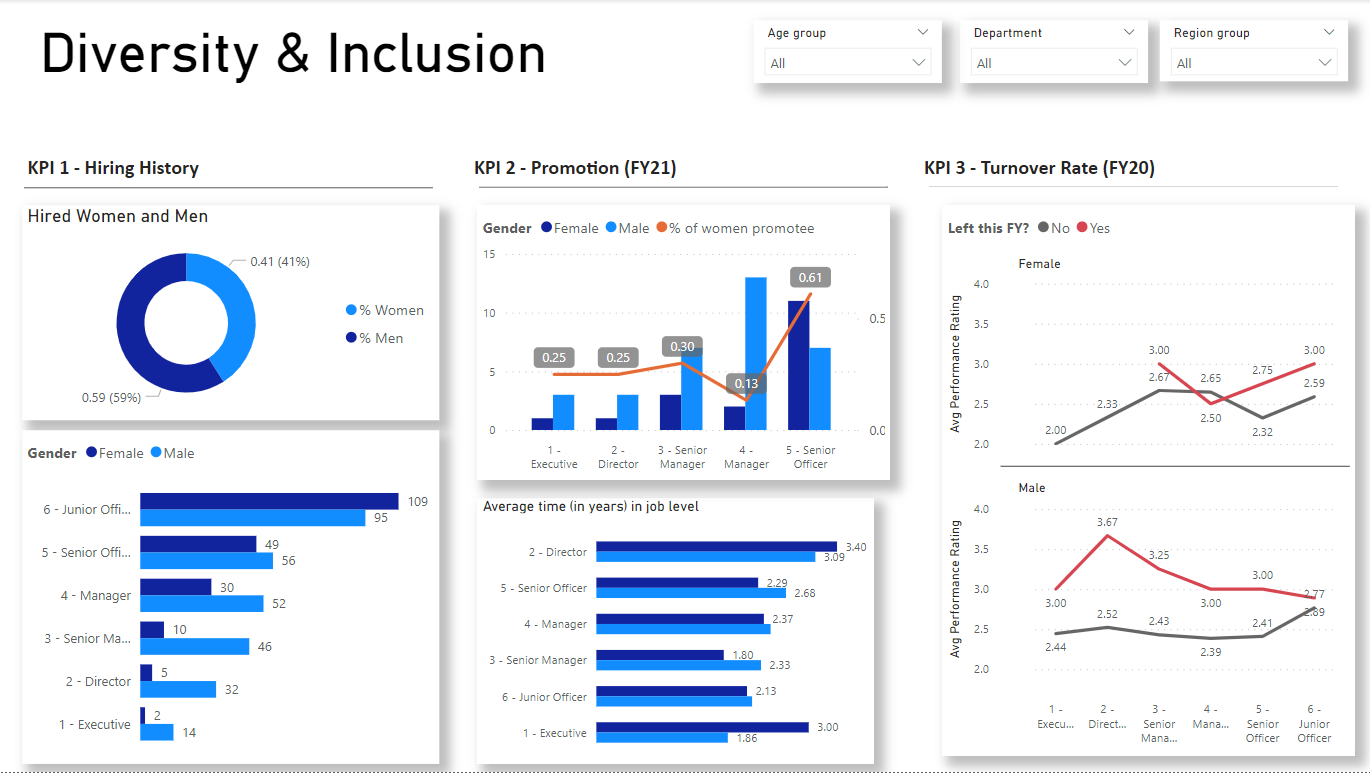

What the dashboard file says about the page in this screenshot:
{"tool":"powerbi","page":{"name":"Diversity & Inclusion Analysis Dashboard I","canvas":[1280,720],"ordinal":0},"visuals":[{"type":"slicer","fields":{"Values":["Pharma Group AG.Last Department in FY20"]},"box":[896.5,19.8,175.6,58.1],"z":0},{"type":"slicer","fields":{"Values":["Pharma Group AG.Age group"]},"box":[704.7,19.8,175.6,58.1],"z":1000},{"type":"slicer","fields":{"Values":["Pharma Group AG.Broad region group: nationality 1"]},"box":[1082.6,19.8,175.6,57],"z":2000},{"type":"textbox","title":"Diversity & Inclusion","box":[36,19.8,551.2,58.1],"z":3000},{"type":"basicShape","box":[16.3,159.3,400,32.6],"z":4000},{"type":"basicShape","box":[858.1,158.1,400,31.4],"z":5000},{"type":"basicShape","box":[439.5,159.3,400,31.4],"z":6000},{"type":"donutChart","title":"Hired Women and Men","fields":{"Y":["Pharma Group AG.% hires women","Pharma Group AG.% hires men"]},"box":[24.4,191.9,388.4,200],"z":7000},{"type":"clusteredBarChart","fields":{"Category":["Pharma Group AG.Job Level after FY20 promotions"],"Y":["CountNonNull(Pharma Group AG.Employee ID)"],"Series":["Pharma Group AG.Gender"]},"box":[24.4,401.2,388.4,310.5],"z":8000},{"type":"textbox","box":[24.4,140.7,237.2,33.7],"z":9000},{"type":"textbox","box":[439.5,140.7,388.4,33.7],"z":10000},{"type":"textbox","box":[858.1,140.7,400,33.7],"z":11000},{"type":"lineClusteredColumnComboChart","fields":{"Y2":["Pharma Group AG.% women promoted"],"Y":["CountNonNull(Pharma Group AG.Employee ID)"],"Category":["Pharma Group AG.Job Level after FY21 promotions"],"Series":["Pharma Group AG.Gender"]},"box":[448,192,384,256],"z":12000},{"type":"clusteredBarChart","title":"Average time (in years) in job level","fields":{"Y":["Avg(Pharma Group AG.Time in Job Level @01.07.2020)"],"Category":["Pharma Group AG.Job Level after FY20 promotions"],"Series":["Pharma Group AG.Gender"]},"box":[447.7,464,368.6,247.7],"z":13000},{"type":"lineChart","fields":{"Category":["Pharma Group AG.Job Level after FY20 promotions"],"Series":["Pharma Group AG.FY20 leaver?"],"Y":["Avg(Pharma Group AG.FY19 Performance Rating)"],"Rows":["Pharma Group AG.Gender"]},"box":[880,192,384,512],"z":14000}]}

Visuals, with their boxes in screenshot pixels (x1, y1, x2, y2), scaled from the page's 1280x720 canvas onto the 1370x773 screenshot:
slicer - Pharma Group AG.Last Department in FY20: [960,21,1147,84]
slicer - Pharma Group AG.Age group: [754,21,942,84]
slicer - Pharma Group AG.Broad region group: nationality 1: [1159,21,1347,82]
"Diversity & Inclusion" textbox: [39,21,628,84]
basicShape: [17,171,446,206]
basicShape: [918,170,1347,203]
basicShape: [470,171,899,205]
"Hired Women and Men" donutChart: [26,206,442,421]
clusteredBarChart - Pharma Group AG.Job Level after FY20 promotions x CountNonNull(Pharma Group AG.Employee ID): [26,431,442,764]
textbox: [26,151,280,187]
textbox: [470,151,886,187]
textbox: [918,151,1347,187]
lineClusteredColumnComboChart - Pharma Group AG.% women promoted x CountNonNull(Pharma Group AG.Employee ID): [480,206,890,481]
"Average time (in years) in job level" clusteredBarChart: [479,498,874,764]
lineChart - Pharma Group AG.Job Level after FY20 promotions x Pharma Group AG.FY20 leaver?: [942,206,1353,756]
